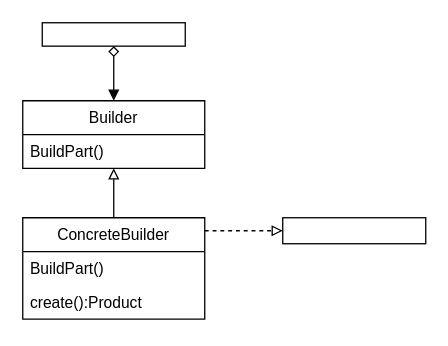
The diagram is 448 pixels wide and 346 high, and some of its shapes have lost their labels. Here are the shapes that lost their labels. From the top down, the centre of each, then its label:
At (113,33): "Client".
At (353,230): "Product".
